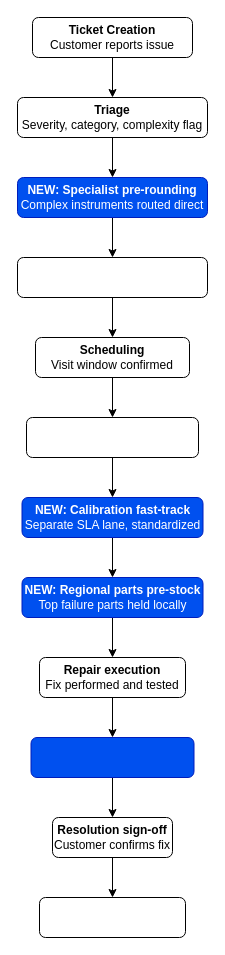
The diagram is 225 pixels wide and 955 high, and some of its shapes have lost their labels. The shapes that lost their labels are listed below. From the top down, each one's box as (x1, y1, x2, y2) in pixels, then its label:
(16, 256, 208, 298): Engineer assignment Now pre-matched by special ty
(26, 416, 198, 458): Diagnosis Calibration issues fork below
(30, 736, 194, 778): NEW: Verification checklist Mandatory before sign-off
(38, 896, 186, 938): Ticket closure SLA timer stops, logged
